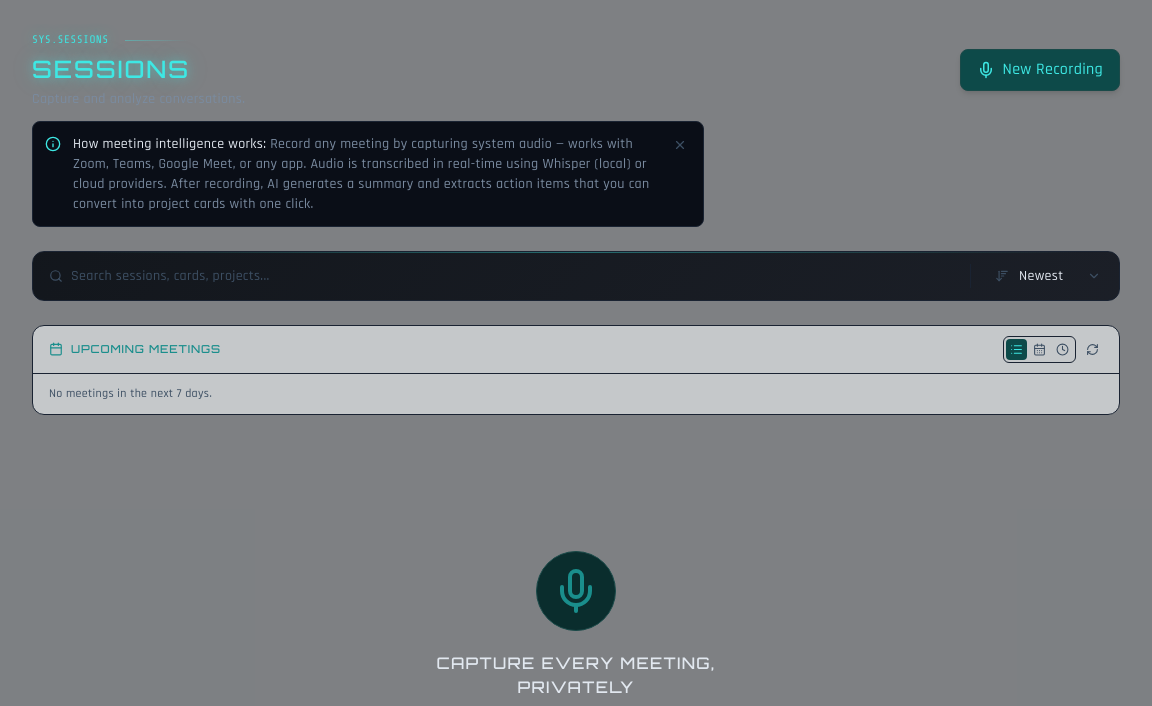
Test: SessionsHome — calendar ribbon (Phase G Task 4) › refresh: a failed sync surfaces an inline error instead of failing silently
Click the button named "Refresh calendar".
click(1092, 349)  # box [1082,338,1103,360]
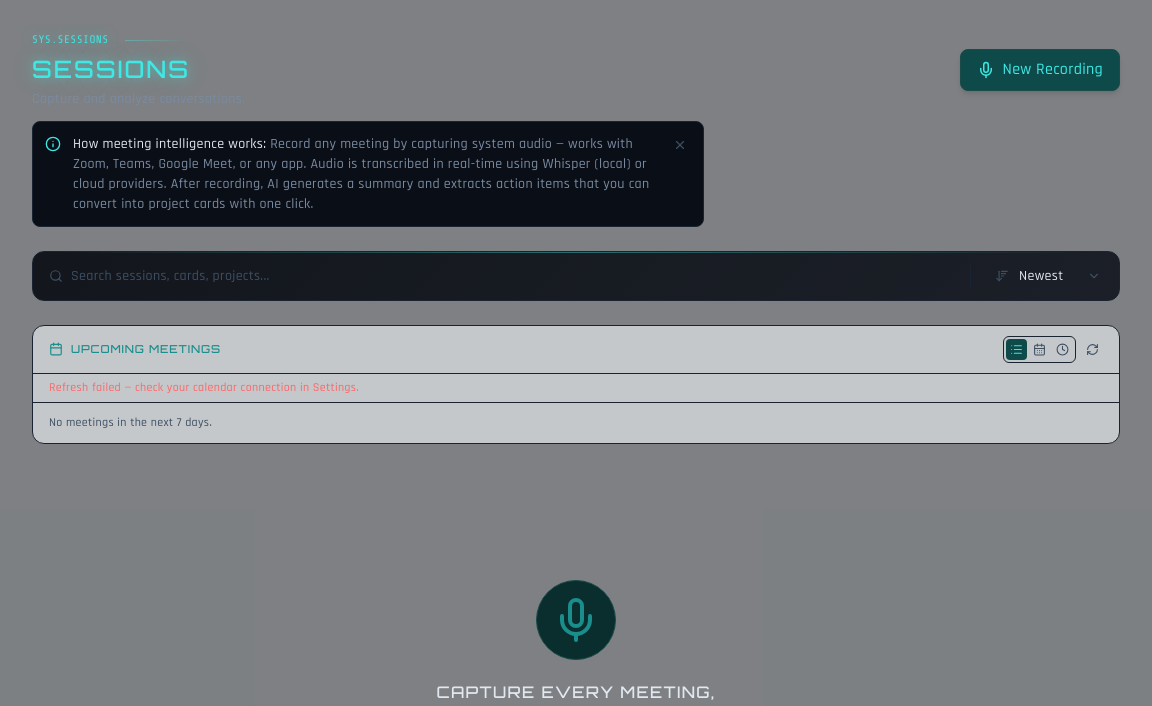
Check: the text "Refresh failed — check your calendar connection in Settings." is shown, box [33,374,1119,402]
